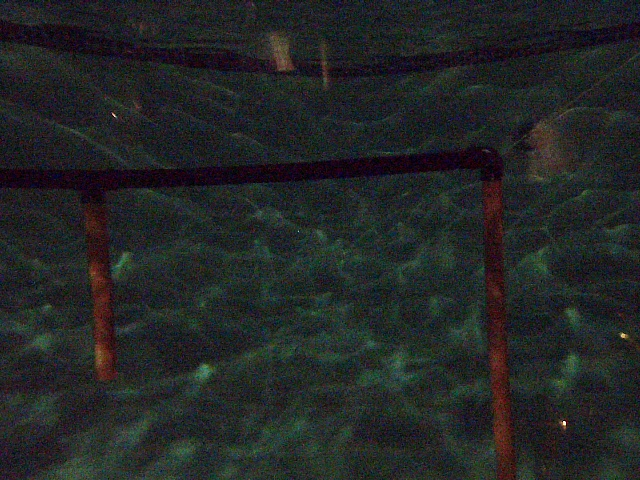Gate: (483, 180, 522, 480), (77, 196, 120, 384)
